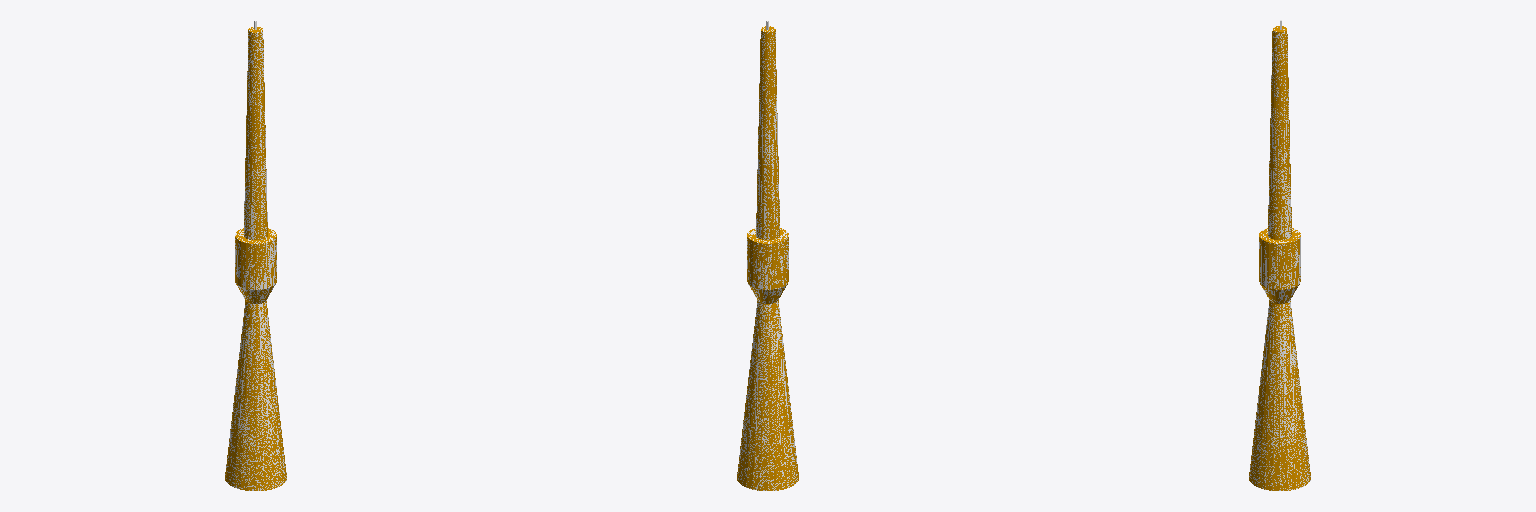
URDF robot description (my_object):
<?xml version="1.0" ?> 
<robot name="my_object" static="true">
  <link name="base_link">
  <inertial>
    <mass value="0.48" />
    <origin xyz="0 0 0.0" />
    <inertia ixx="1.0" ixy="0.0" ixz="0.0" iyy="1.0" iyz="0.0" izz="1.0"/>
  </inertial>
  <visual>
   <origin xyz="0 0 0.0" rpy="0 0 0" />
   <geometry>
     <mesh filename="package://cob_gazebo_objects/Media/models/candle_thin.dae"/>
   </geometry>
  </visual>
  <collision>
   <origin xyz="0 0 0.25" rpy="0 0 0" />
   <geometry>
     <box size="0.06 0.06 0.48" />
   </geometry>
  </collision>     
  </link>

<gazebo>
	<static>true</static>
</gazebo>
</robot>

--- Render facts (derived) ---
Views: 3 orthographic renders of the robot side by side, from view 1: azimuth 30°, elevation 25°; view 2: azimuth 150°, elevation 25°; view 3: azimuth 270°, elevation 25°.
Robot: my_object — 1 links, 0 joints (none); root link base_link; default pose: all joints at 0.
Visible links, largest first — view 1: base_link; view 2: base_link; view 3: base_link.
Link boxes in pixels (x1,y1,x2,y2): base_link: (225,21,286,490); base_link: (737,21,798,490); base_link: (1249,20,1310,490).
Size in the robot's own frame: 0.0605 by 0.0605 by 0.4891 metres.
Meshes: 1 distinct files referenced, 1 mesh visuals loaded (1 Collada DAE).